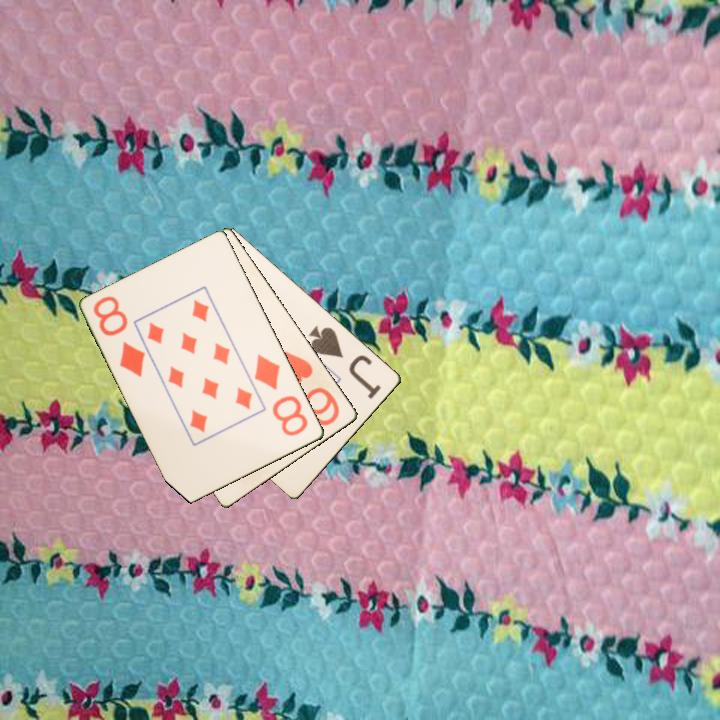6h: (279, 347, 343, 429)
8d: (251, 351, 311, 439), (90, 292, 149, 381)
Js: (305, 322, 384, 402)
